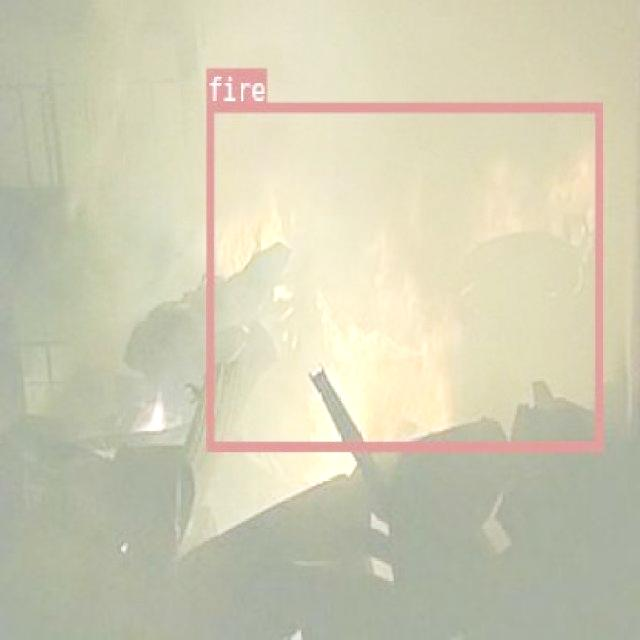fire: (205, 100, 601, 449)
